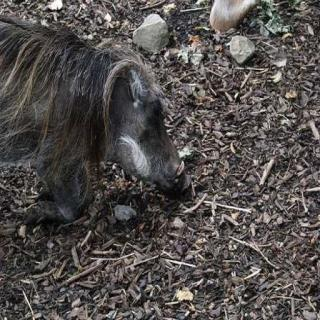Pig: (0, 16, 225, 204)
